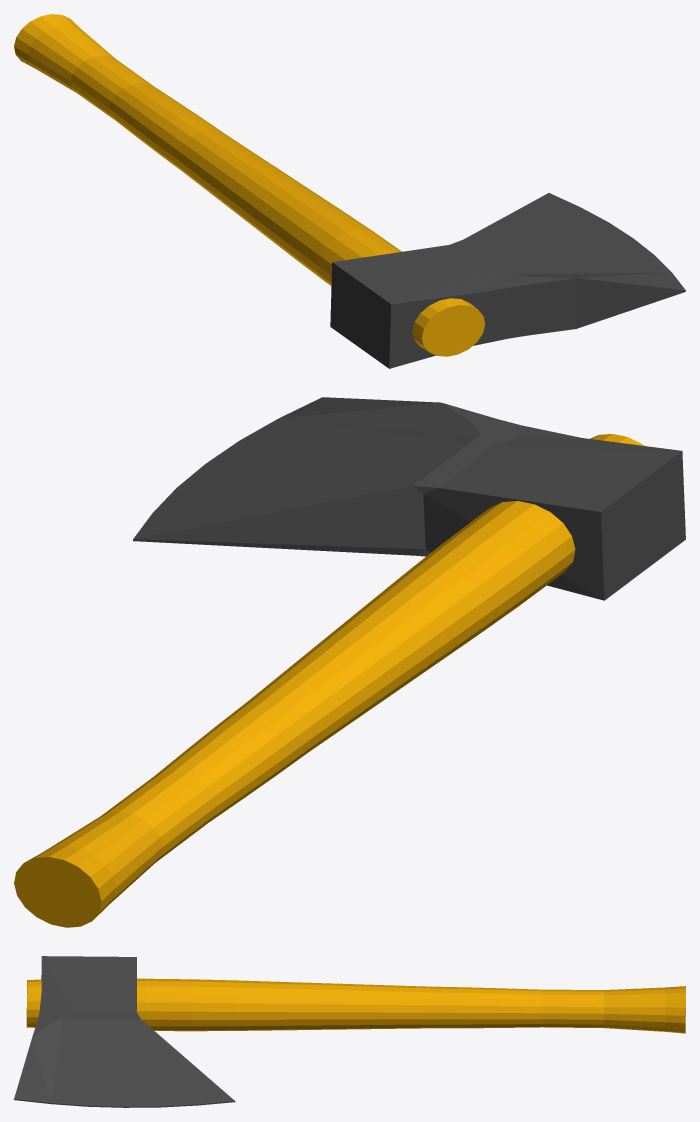
File: Hatchet.glb
The picture shows the model from 3 angles, top to bottom: view 1: azimuth 30°, elevation 25°; view 2: azimuth 150°, elevation 25°; view 3: azimuth 270°, elevation 25°; orthographic projection. The views are drawn at different scales.
Parts seen in each view (by area): view 1: Box001, Cylinder001; view 2: Box001, Cylinder001; view 3: Cylinder001, Box001.
Boxes of the visible parts, x1,y1,x2,y2 form: Box001: (330, 193, 685, 368); Cylinder001: (14, 14, 485, 356); Box001: (133, 397, 685, 600); Cylinder001: (14, 434, 643, 927); Cylinder001: (26, 978, 685, 1033); Box001: (14, 956, 235, 1107).
Bounding box in the file's own units: 300308 × 63245 × 731557.
